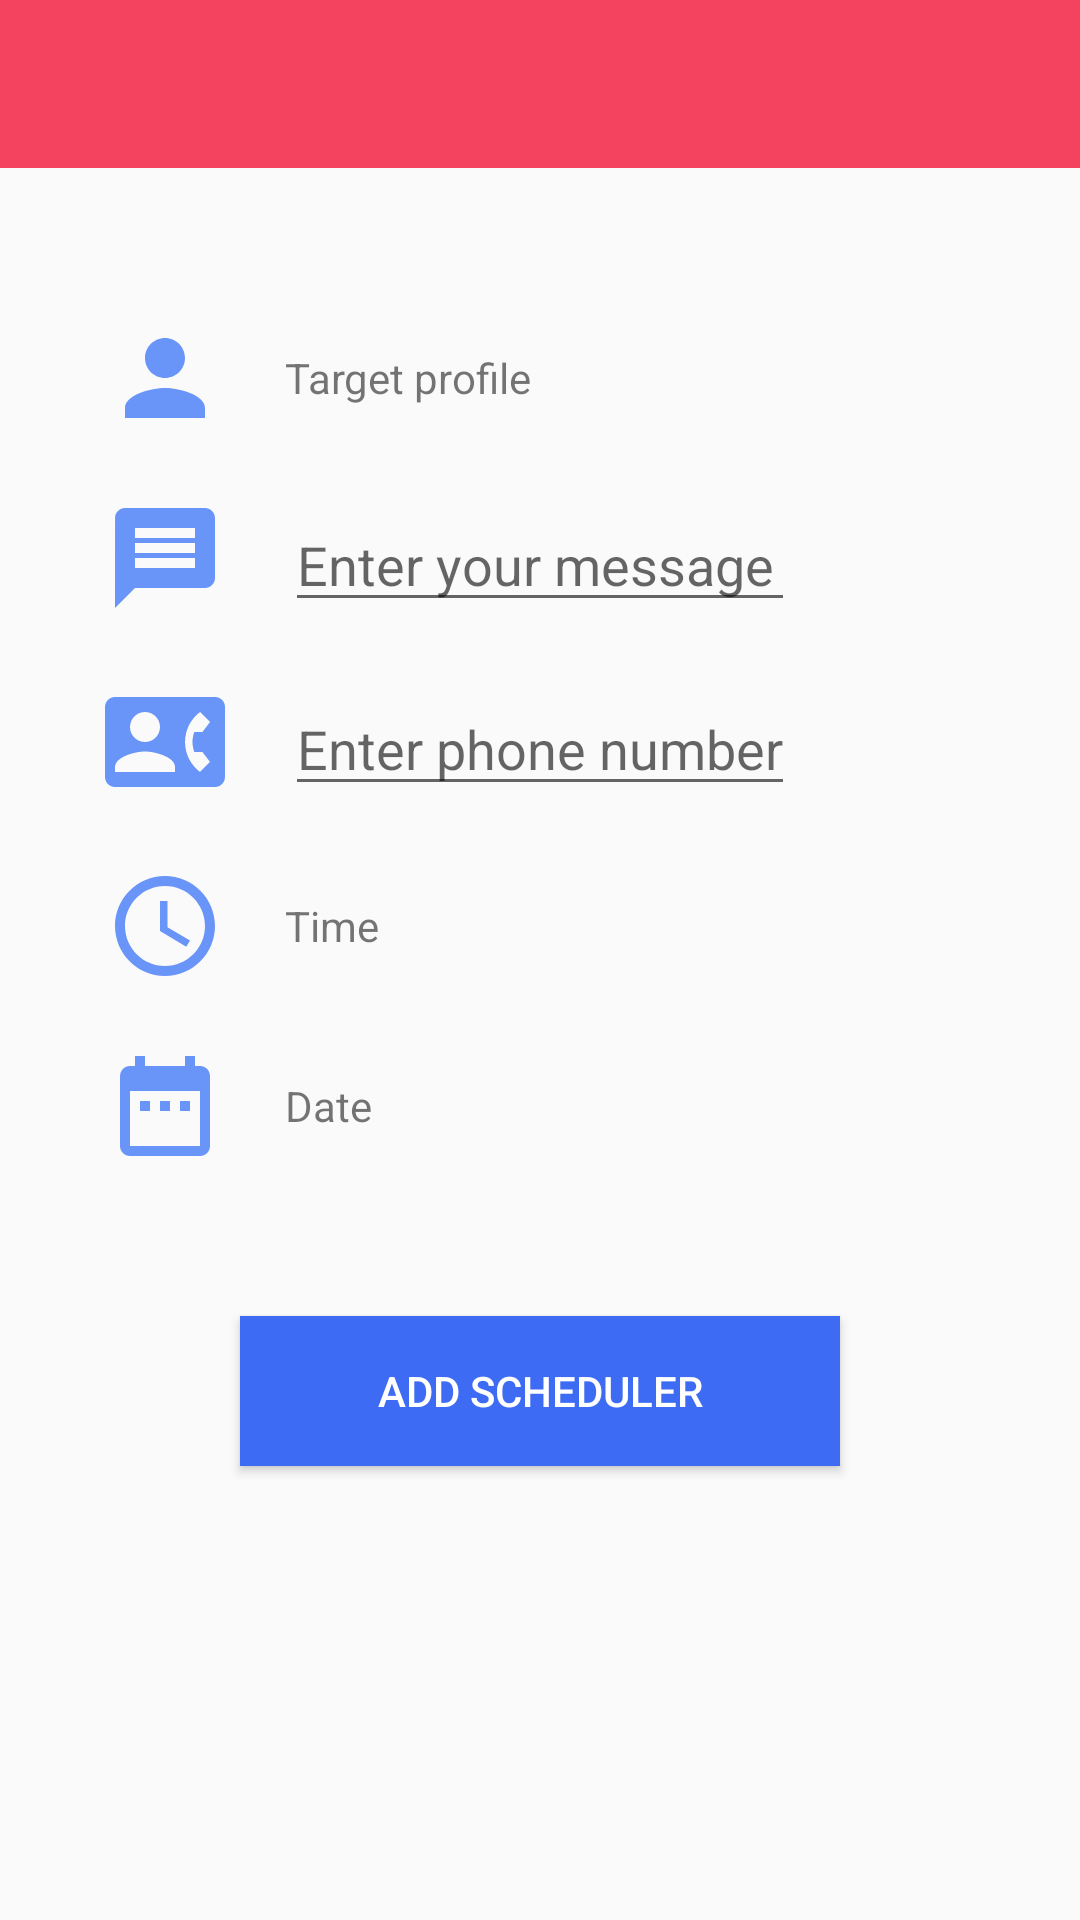

Icons on this 1080×1920 Android screen, each with its box as (x1, y1, x2, y2):
contact phone: (105, 697, 225, 787)
person: (125, 338, 205, 418)
